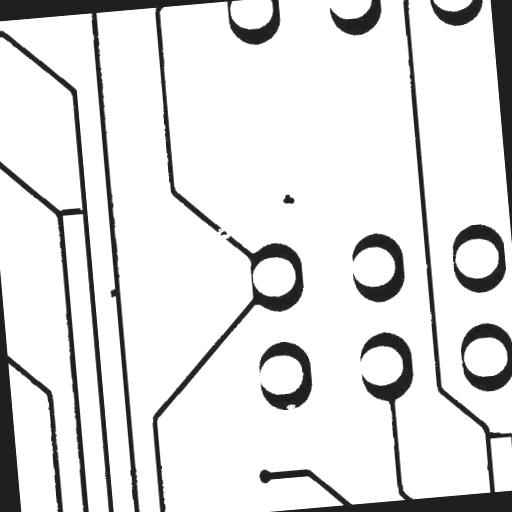copper: (274, 186, 302, 212)
mousebite: (278, 396, 304, 418)
open: (206, 220, 240, 248)
short: (49, 199, 92, 224), (473, 422, 512, 447)
spur: (102, 280, 128, 306)
